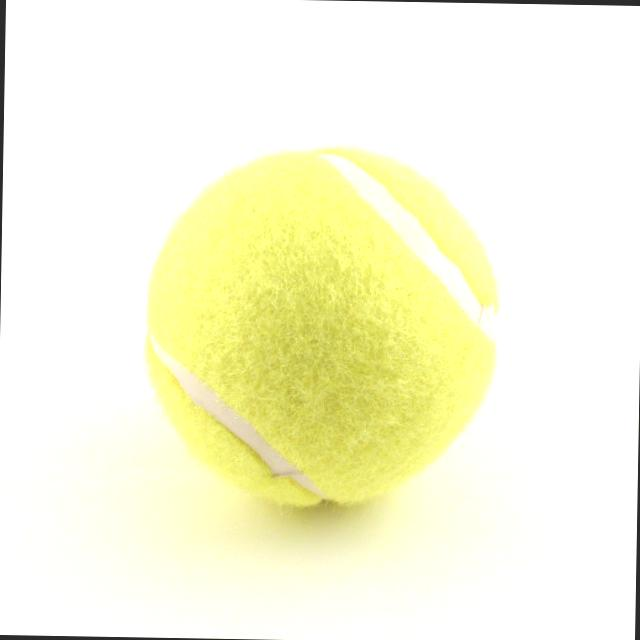Tennis ball: (140, 142, 502, 520)
